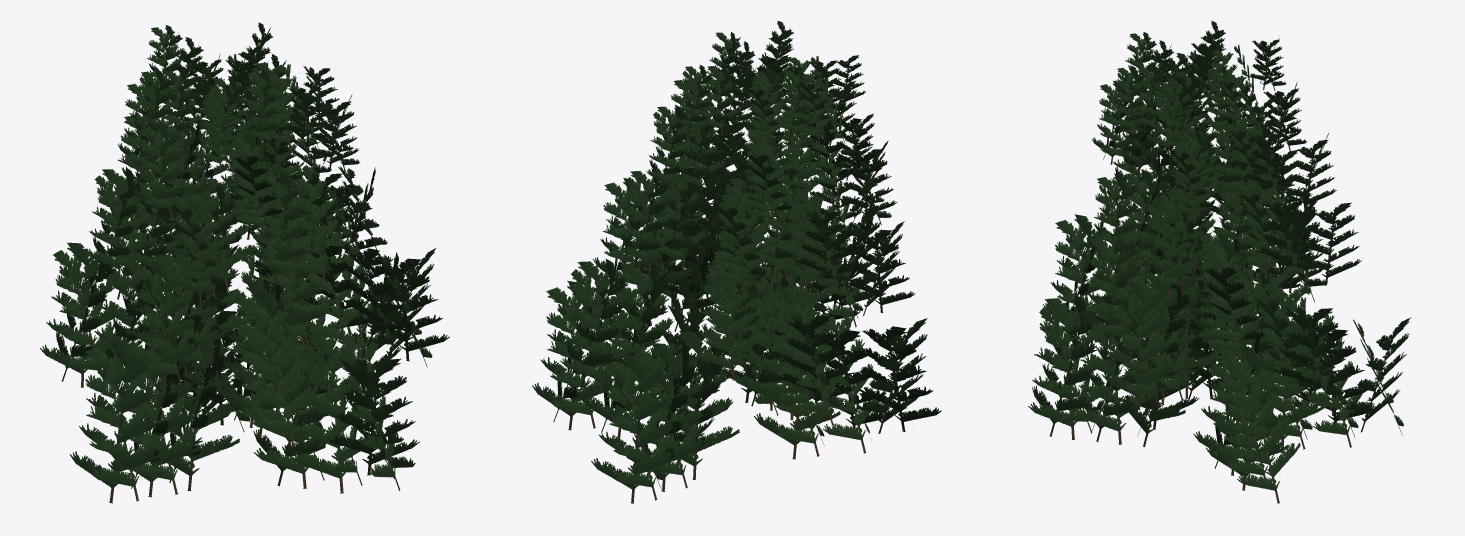
File: SM_Art_Veg_Pine_2_Needles.gltf
3 renders of one model, left to right at view 1: azimuth 30°, elevation 25°; view 2: azimuth 150°, elevation 25°; view 3: azimuth 270°, elevation 25°, orthographic. The views are drawn at different scales.
Parts seen in each view (by area): view 1: SM_Art_Veg_Pine_2_Needles; view 2: SM_Art_Veg_Pine_2_Needles; view 3: SM_Art_Veg_Pine_2_Needles.
Boxes of the visible parts, x1,y1,x2,y2 form: SM_Art_Veg_Pine_2_Needles: (40, 22, 449, 503); SM_Art_Veg_Pine_2_Needles: (532, 21, 941, 503); SM_Art_Veg_Pine_2_Needles: (1028, 20, 1410, 503).
Size of the model in its own units: 6.09 by 5.69 by 6.15.
1 material, 1 textured.
